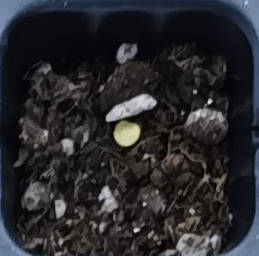pepper seed: (42, 46, 184, 193)
